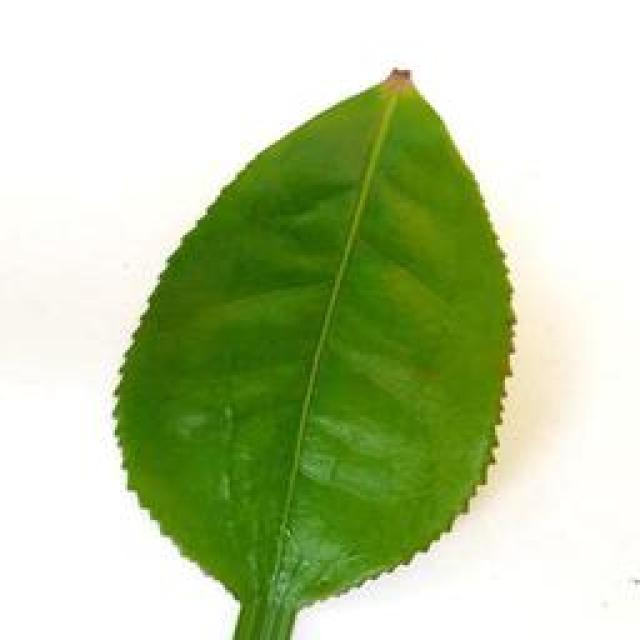Healthy: (114, 66, 523, 605)
